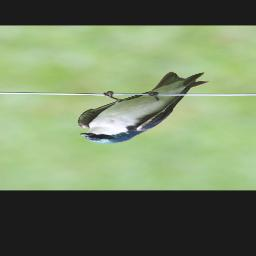Swallow: (77, 71, 210, 144)
